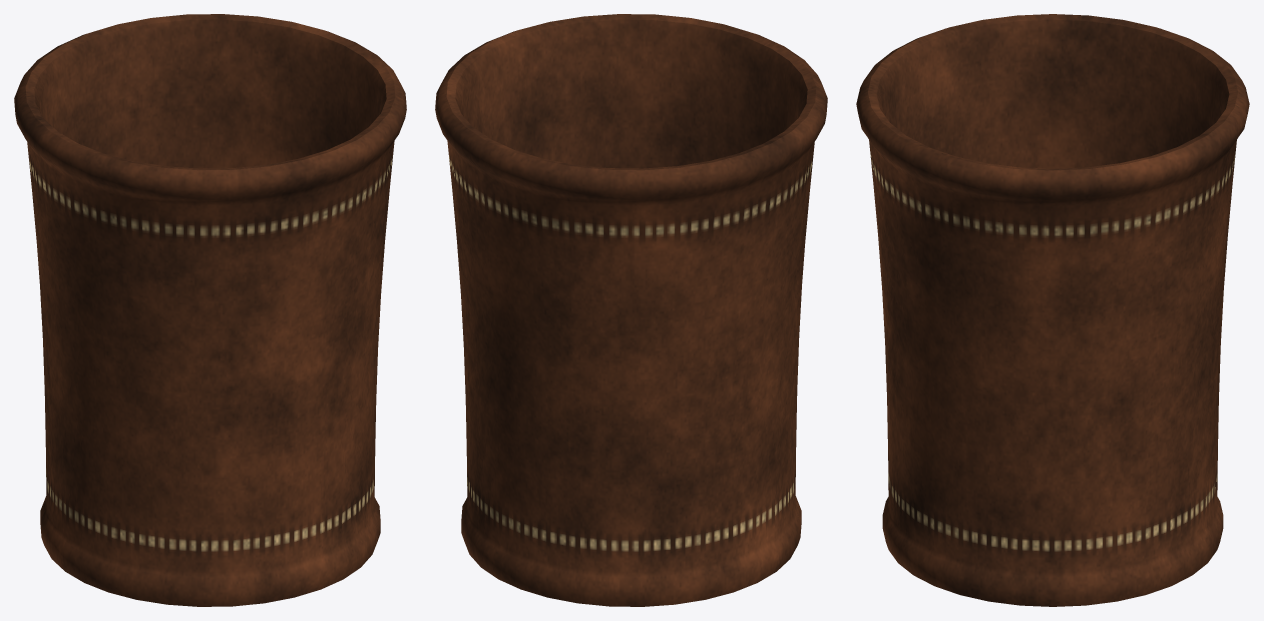
The model's file is Cup_Leather.fbx.
The picture shows the model from 3 angles, left to right: view 1: azimuth 30°, elevation 25°; view 2: azimuth 150°, elevation 25°; view 3: azimuth 270°, elevation 25°; orthographic projection.
Parts seen in each view (by area): view 1: Cup_Leather; view 2: Cup_Leather; view 3: Cup_Leather.
Part boxes in pixels (x1,y1,x2,y2): Cup_Leather: (14,14,406,606); Cup_Leather: (435,14,827,606); Cup_Leather: (856,14,1249,606).
Bounding box in the file's own units: 0.718 × 0.9 × 0.718.
Materials: 1 (1 with a texture image).
